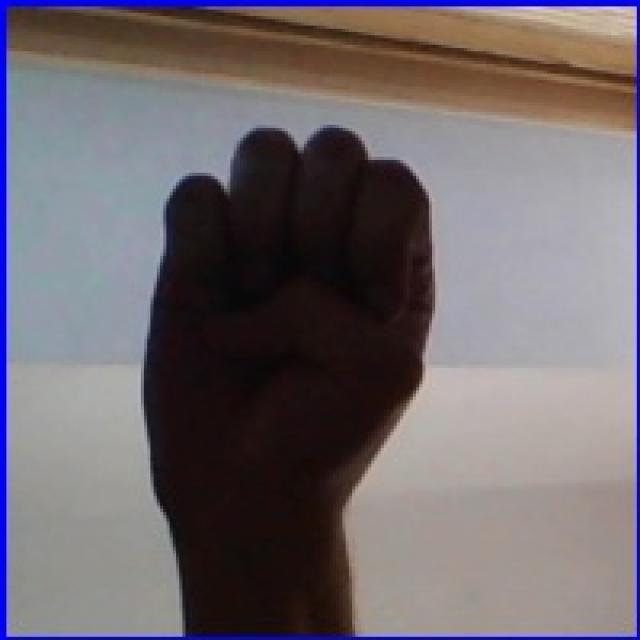Letra E: (115, 102, 456, 578)
